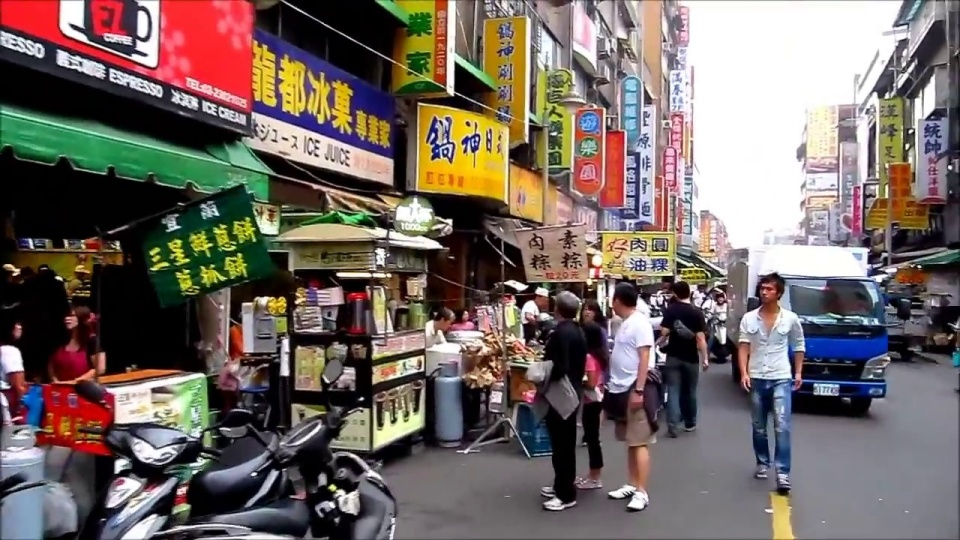person_head: (608, 281, 641, 320), (756, 273, 785, 306), (552, 290, 580, 320), (581, 324, 605, 355), (60, 305, 90, 329), (2, 316, 25, 342), (433, 306, 456, 332), (579, 298, 601, 323), (670, 280, 692, 303), (531, 287, 549, 306), (233, 309, 246, 329), (714, 289, 726, 306), (460, 308, 471, 321), (506, 293, 516, 303)
person_vbox: (736, 268, 807, 496), (606, 279, 657, 511), (537, 283, 582, 513), (658, 276, 710, 437), (573, 319, 608, 489), (45, 302, 108, 389), (579, 293, 608, 447), (0, 309, 28, 423), (424, 301, 459, 350), (520, 283, 553, 327), (227, 303, 250, 362), (707, 285, 732, 317), (453, 302, 477, 330)
